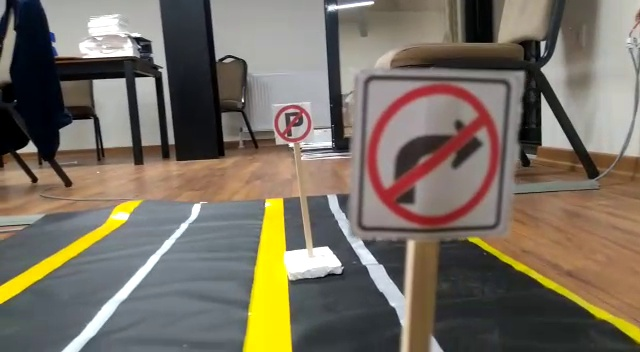park_yapilmaz: (271, 101, 313, 142)
saga_donulmez: (349, 76, 509, 229)
